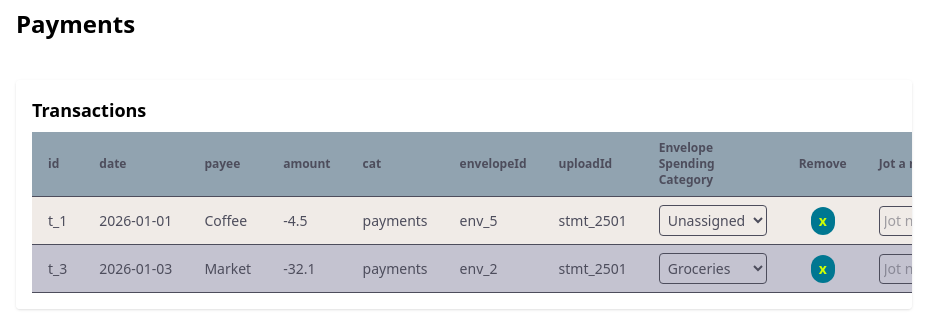
Payments selector integration › selecting a spending category PATCHes and updates the row
The image size is (929, 327).
Expected: the text "t_1" is shown, [48,210,67,230]
Select "Rent" in the dropdown named "spending category" in the row of "t_1": (713, 220) [659,205,767,236]
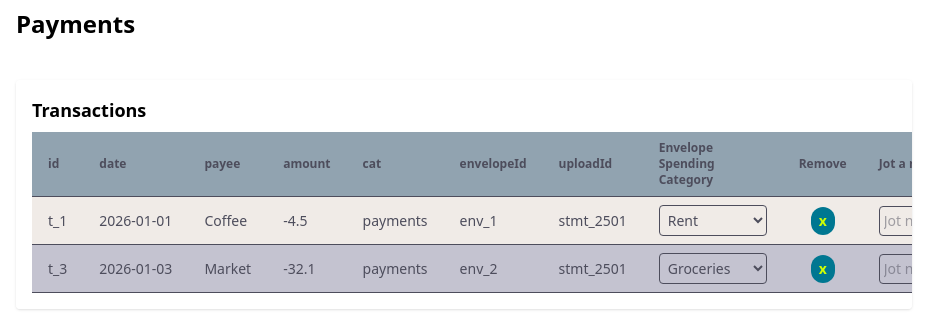
Result: the text "env_1" is shown at [444,196,542,244]
